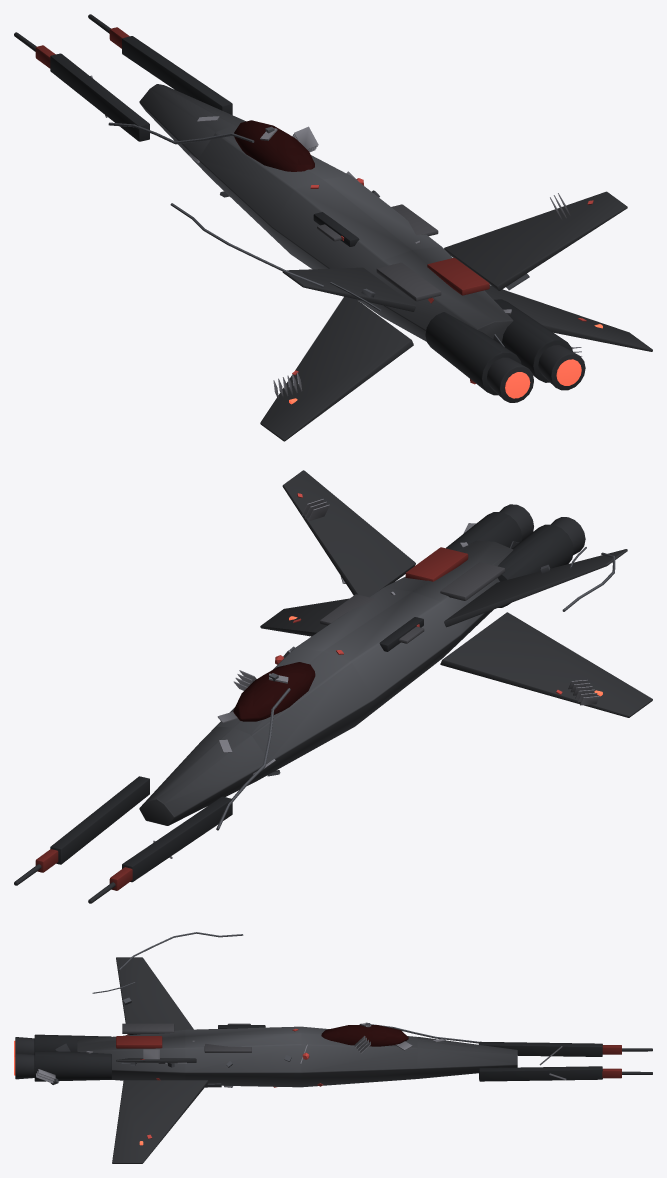
File: enemy_jackal.glb
The picture shows the model from 3 angles, top to bottom: view 1: azimuth 30°, elevation 25°; view 2: azimuth 150°, elevation 25°; view 3: azimuth 270°, elevation 25°; orthographic projection. The views are drawn at different scales.
Visible parts, largest first — view 1: EnemyJackal; view 2: EnemyJackal; view 3: EnemyJackal.
Boxes of the visible parts, x1,y1,x2,y2 form: EnemyJackal: (14,14,652,441); EnemyJackal: (14,470,652,903); EnemyJackal: (14,932,652,1163).
Bounding box in the file's own units: 7.48 × 3.15 × 16.54.
